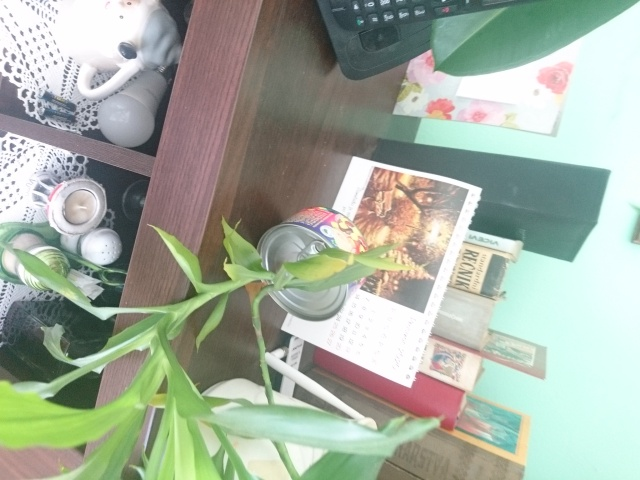Giana Tuna Salad Mexico 185g: (253, 203, 372, 324)
